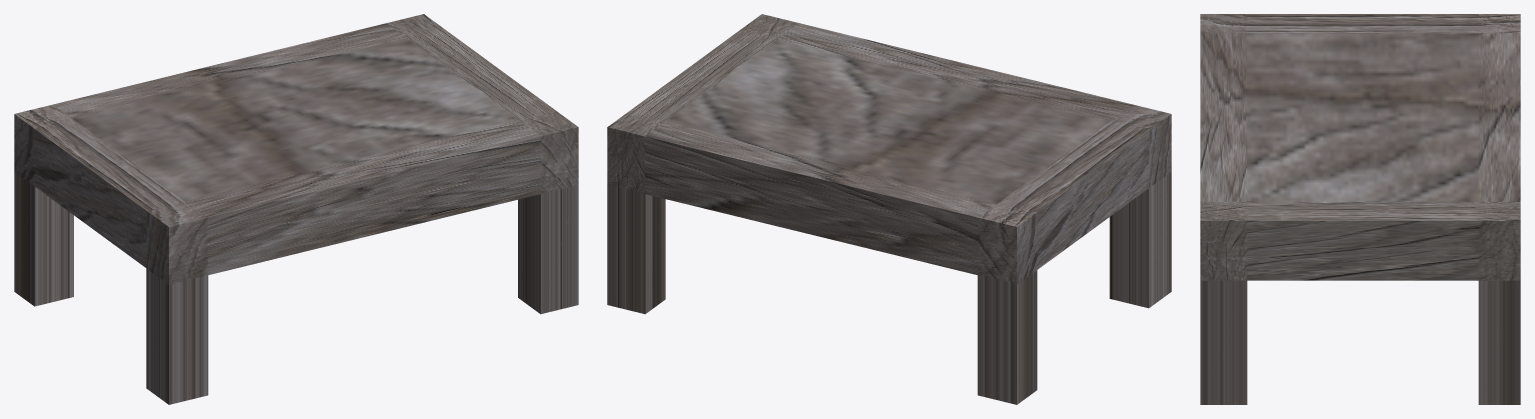
The model's file is Table.fbx.
3 renders of one model, left to right at view 1: azimuth 30°, elevation 25°; view 2: azimuth 150°, elevation 25°; view 3: azimuth 270°, elevation 25°, orthographic. The views are drawn at different scales.
Parts seen in each view (by area): view 1: pCube1; view 2: pCube1; view 3: pCube1.
Part boxes in pixels (bbox=[...]): pCube1: bbox=[14, 14, 578, 404]; pCube1: bbox=[607, 14, 1171, 404]; pCube1: bbox=[1200, 14, 1520, 404].
Bounding box in the file's own units: 2.6 × 1.08 × 1.7.
1 material, 1 textured.
